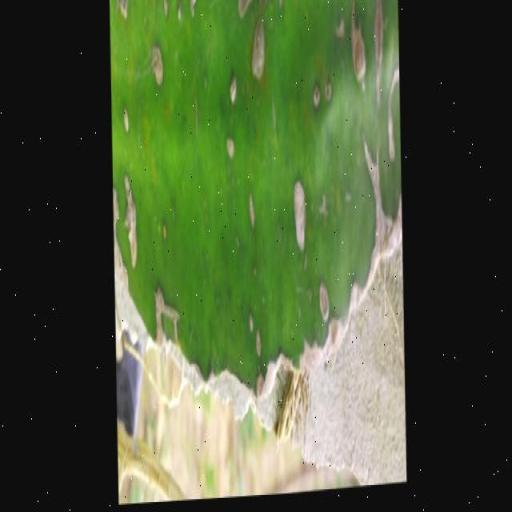stemcanker: (141, 34, 180, 104), (233, 310, 273, 365), (310, 68, 340, 126), (212, 124, 247, 172), (314, 258, 334, 327), (115, 92, 139, 144), (220, 68, 243, 112)
